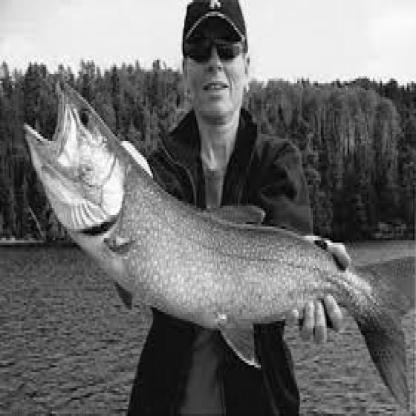fish: (20, 80, 410, 402)
